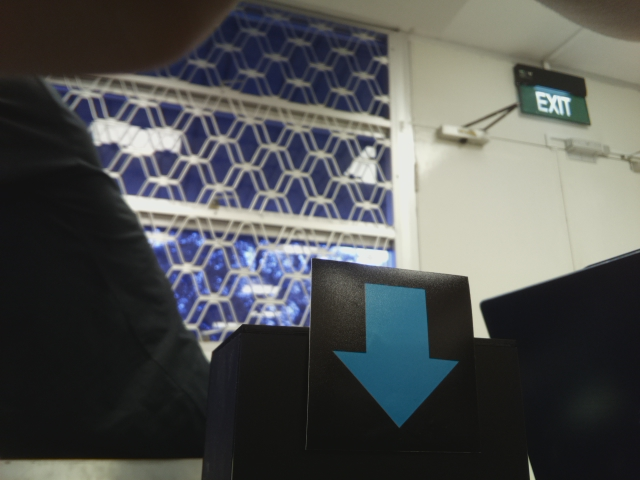down: (333, 268, 466, 438)
